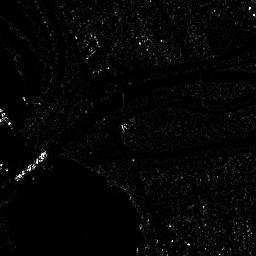ship: (14, 150, 49, 182)
